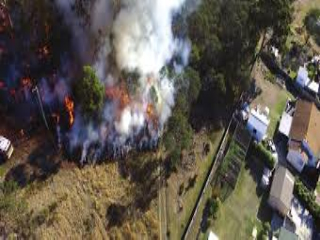fire: (102, 81, 163, 125), (60, 93, 78, 124)
smoke: (89, 3, 205, 86)
